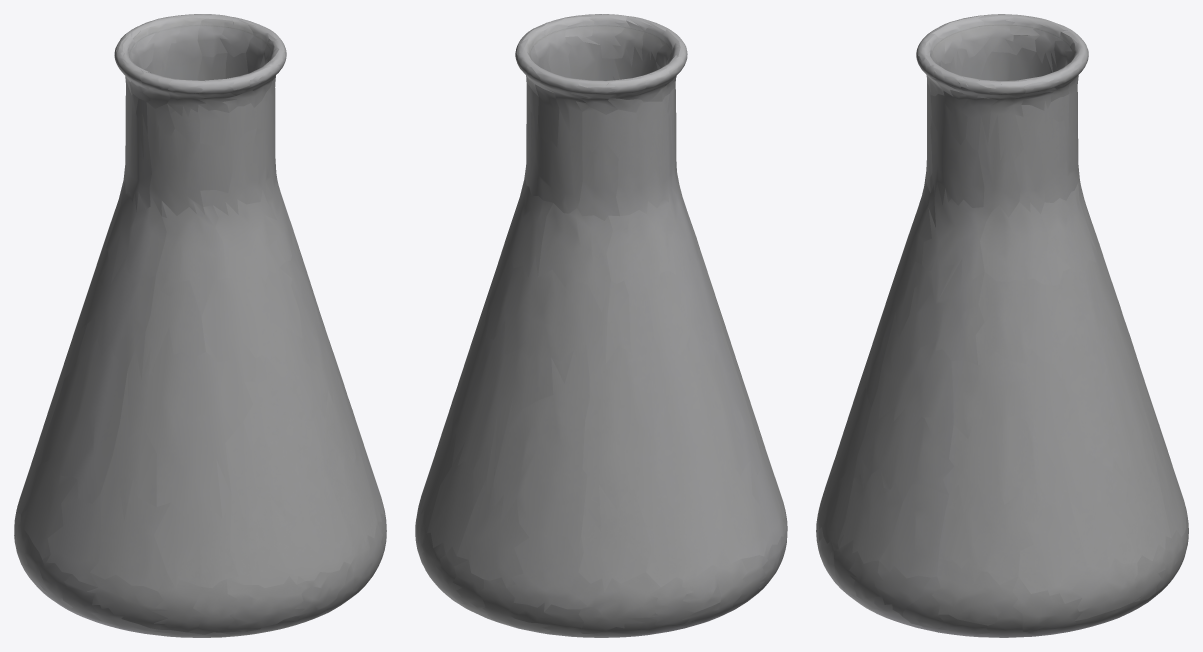
Rendered from Meshy_AI_Conical_Flask_Remesh_0907162658_texture.glb.
3 views of the same model, side by side, from view 1: azimuth 30°, elevation 25°; view 2: azimuth 150°, elevation 25°; view 3: azimuth 270°, elevation 25° (orthographic).
Parts seen in each view (by area): view 1: output_unwrapped; view 2: output_unwrapped; view 3: output_unwrapped.
Boxes of the visible parts, <box> form: output_unwrapped: <box>14,14,386,637</box>; output_unwrapped: <box>415,14,787,637</box>; output_unwrapped: <box>816,14,1188,637</box>.
Size of the model in its own units: 1.23 by 1.9 by 1.23.
Materials: 1 (1 with a texture image).
